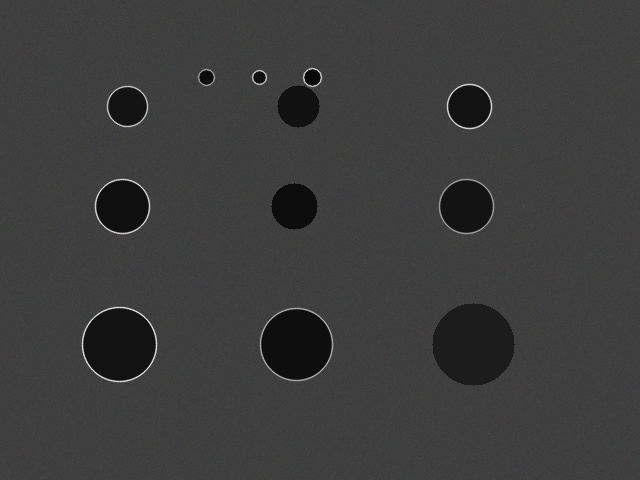hole: (432, 303, 514, 385), (82, 307, 156, 381), (260, 308, 332, 380), (95, 179, 149, 233), (439, 179, 493, 233), (271, 183, 317, 229), (447, 84, 491, 128), (277, 85, 319, 127), (107, 86, 147, 126), (303, 68, 321, 86), (198, 69, 214, 85), (252, 70, 266, 84)
